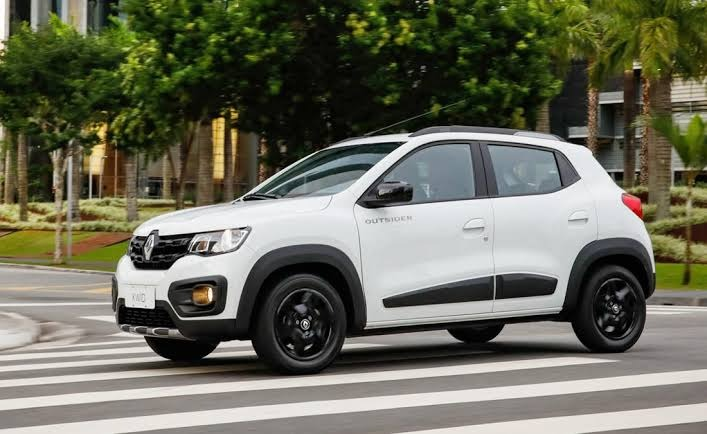car: (115, 121, 663, 374), (111, 122, 662, 372)
